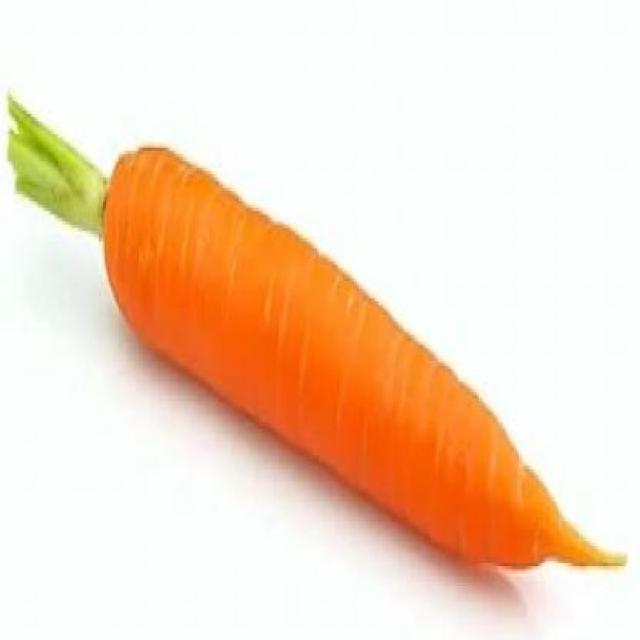carrot: (104, 143, 606, 588)
